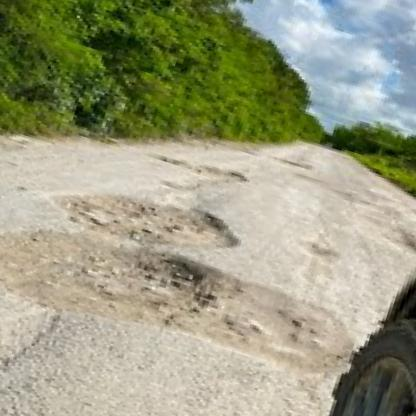pothole: (0, 191, 367, 388), (47, 166, 247, 271), (153, 147, 251, 189), (269, 151, 316, 173)
